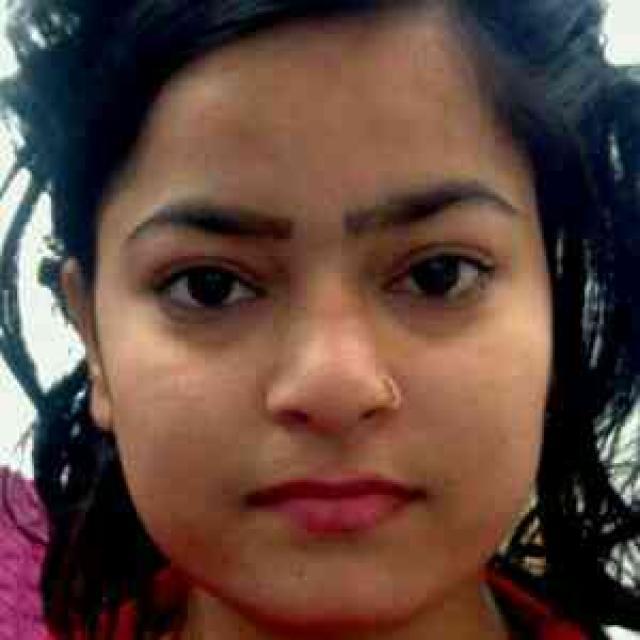Puffy Eyes - v3 Dark Circle: (382, 292, 483, 338)
